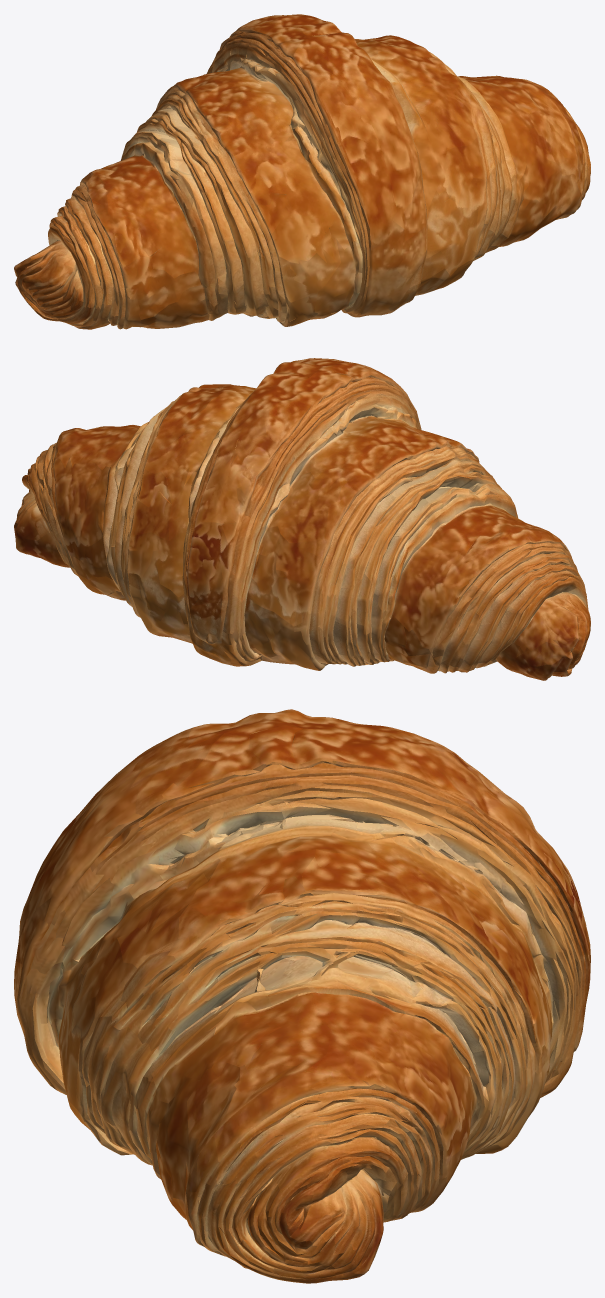
The model's file is croissant.glb.
3 renders of one model, top to bottom at view 1: azimuth 30°, elevation 25°; view 2: azimuth 150°, elevation 25°; view 3: azimuth 270°, elevation 25°, orthographic. The views are drawn at different scales.
Parts seen in each view (by area): view 1: Mesh_0; view 2: Mesh_0; view 3: Mesh_0.
Boxes of the visible parts, <box> form: Mesh_0: <box>14,14,590,329</box>; Mesh_0: <box>14,358,590,680</box>; Mesh_0: <box>14,709,590,1283</box>.
Bounding box in the file's own units: 1.9 × 0.7487 × 1.08.
1 material, 1 textured.
